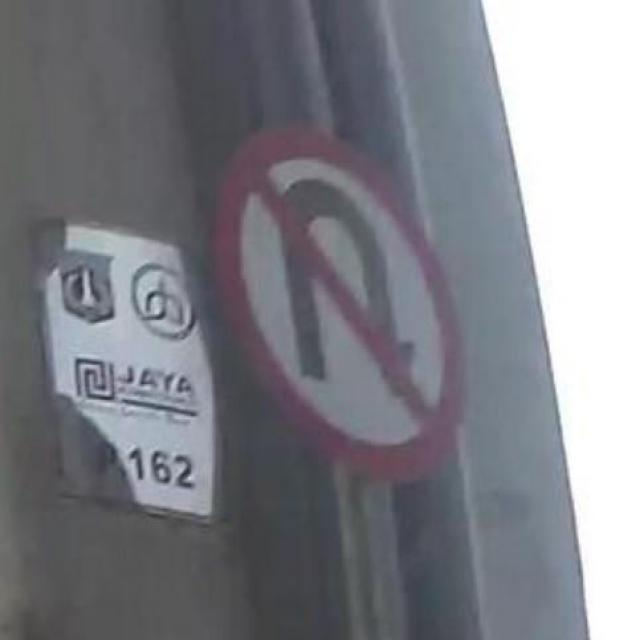traffic sign: (225, 131, 465, 486)
